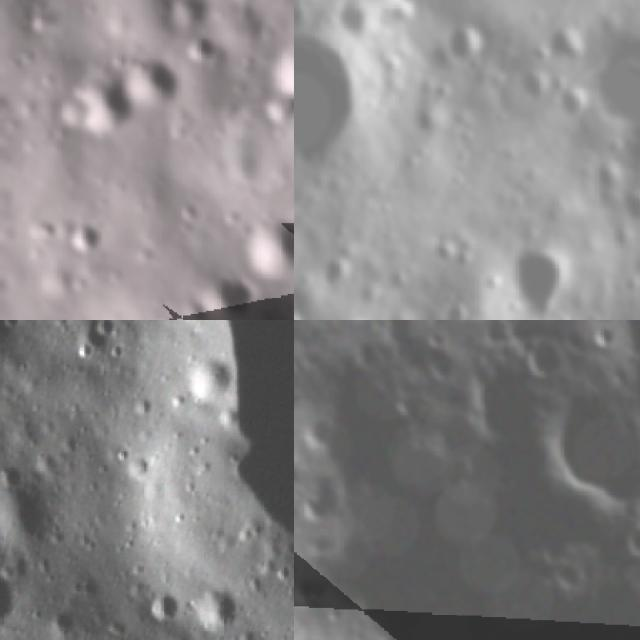crater: (178, 320, 294, 547), (294, 5, 395, 173), (530, 375, 640, 518), (580, 37, 640, 137), (0, 464, 63, 552), (63, 63, 131, 143), (226, 207, 294, 278), (509, 249, 575, 320), (117, 42, 186, 108), (202, 255, 254, 320), (263, 21, 294, 114), (192, 575, 240, 627), (294, 406, 344, 450), (518, 330, 562, 376), (60, 212, 100, 254), (184, 28, 224, 68), (294, 568, 332, 610), (0, 558, 23, 624), (149, 583, 185, 623), (294, 484, 330, 524), (548, 562, 594, 592), (346, 338, 386, 372), (423, 342, 455, 383), (532, 536, 572, 564), (615, 517, 640, 561), (589, 320, 617, 353), (388, 388, 417, 418), (325, 304, 374, 320), (404, 429, 430, 457), (228, 307, 268, 320), (294, 447, 304, 488)
